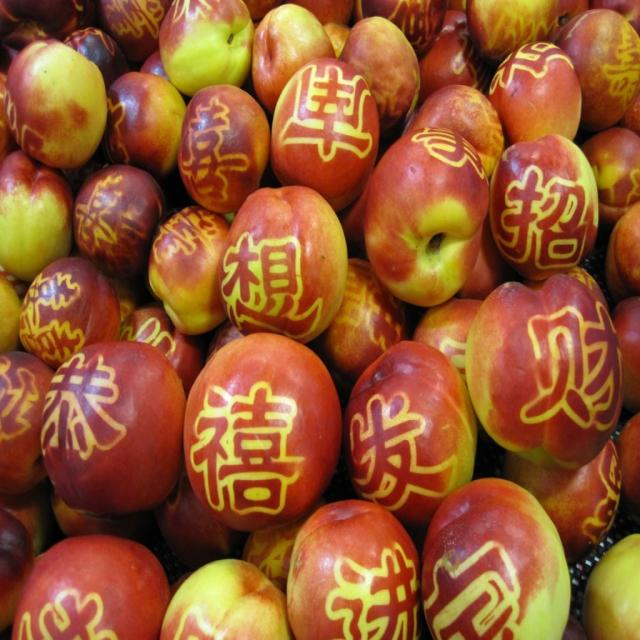Peach: (0, 0, 639, 639), (17, 36, 113, 172)
